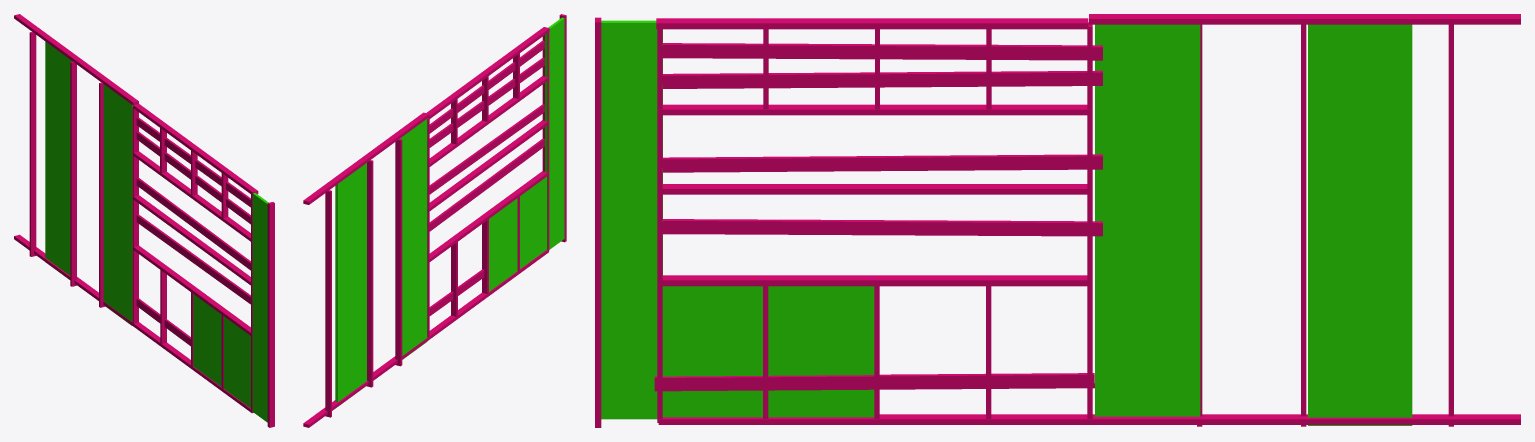
The model's file is BH03_Wall_04_Break_B.fbx.
The picture shows the model from 3 angles, left to right: view 1: azimuth 30°, elevation 25°; view 2: azimuth 150°, elevation 25°; view 3: azimuth 270°, elevation 25°; orthographic projection. The views are drawn at different scales.
Visible parts, largest first — view 1: BH03_Wall_04_Break_B; view 2: BH03_Wall_04_Break_B; view 3: BH03_Wall_04_Break_B.
Boxes of the visible parts, <box> form: BH03_Wall_04_Break_B: <box>14,14,274,427</box>; BH03_Wall_04_Break_B: <box>303,14,566,427</box>; BH03_Wall_04_Break_B: <box>595,14,1520,427</box>.
Bounding box in the file's own units: 14.41 × 359 × 734.
